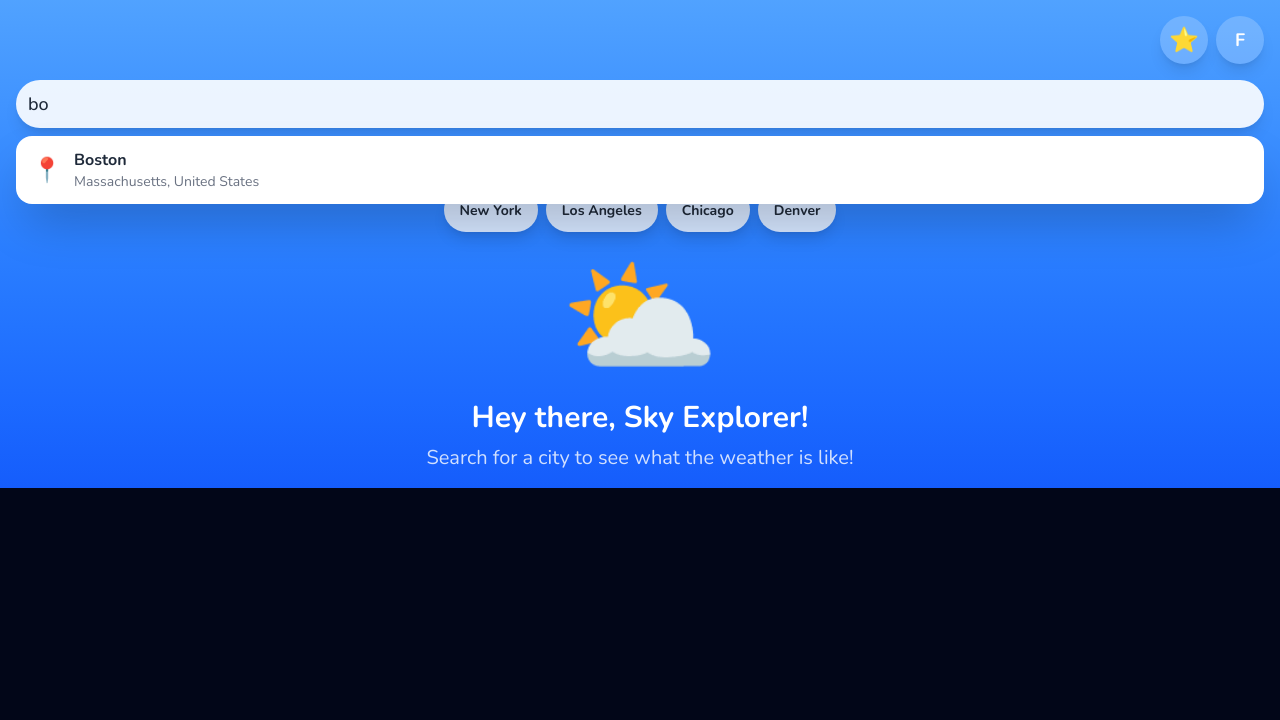
Test: Weather › clears stale search results when the query is emptied
Expected: the text "Boston" is shown, 74,149 -> 126,171
Clear the field with placeholder "Search for a city...". click: (640, 104)
box: 16,80 -> 1264,128
Wait 300 ms
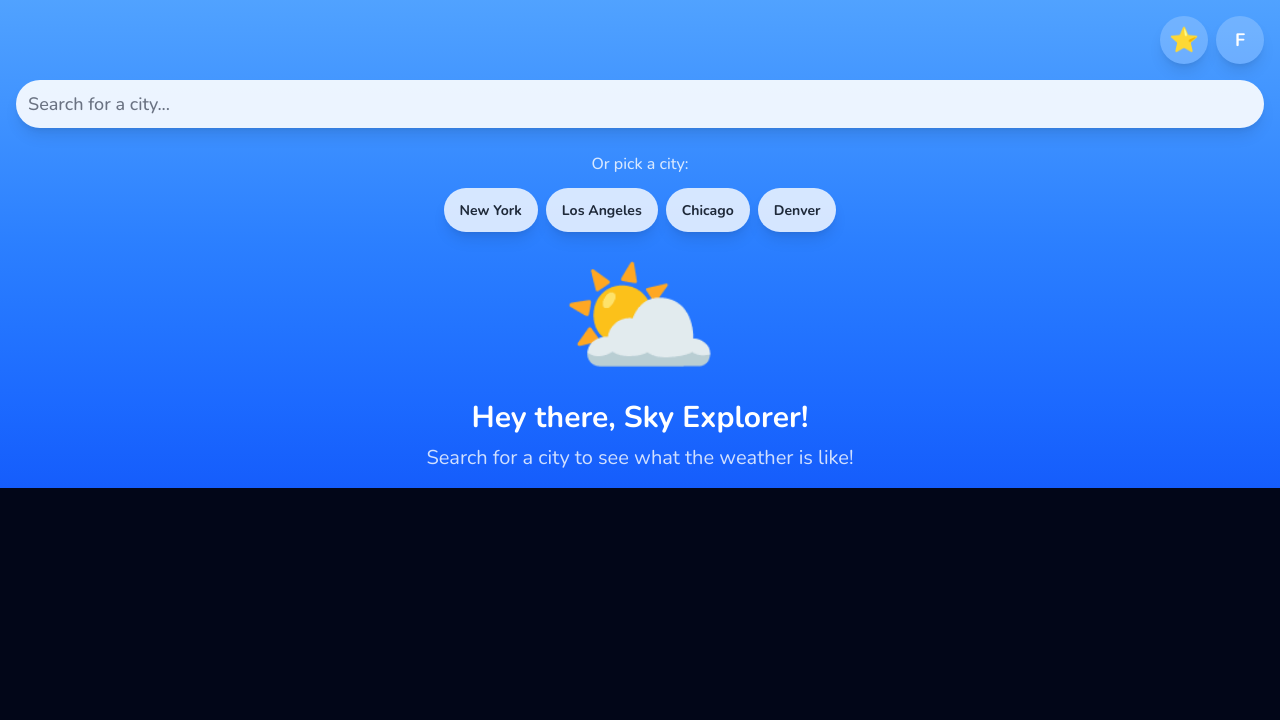
Result: the button "Boston" is gone
